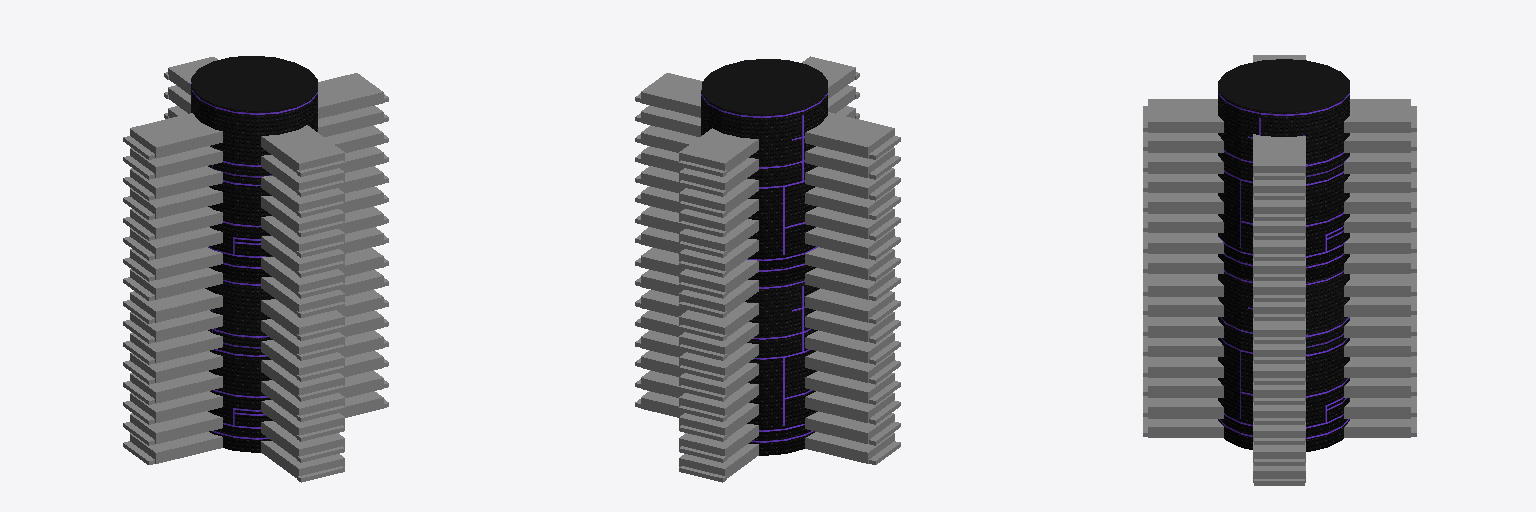
3 views of the same model, side by side, from view 1: azimuth 30°, elevation 25°; view 2: azimuth 150°, elevation 25°; view 3: azimuth 270°, elevation 25° (orthographic).
Visible parts, largest first — view 1: Cylinder001, Box050, Box054, Box067, Box046, Box069, Box036, Box060, Box012, Box024, Box072, Box083 (+21 smaller); view 2: Cylinder001, Box050, Box054, Box067, Box046, Box069, Box036, Box012, Box060, Box072, Box024, Box083 (+21 smaller); view 3: Cylinder001, Box054, Box043, Box007, Box079, Box085, Box031, Box019, Box090, Box014, Box064, Box038 (+21 smaller).
Boxes of the visible parts, x1,y1,x2,y2 form: Cylinder001: [191, 56, 317, 452]; Box050: [130, 73, 383, 158]; Box054: [168, 57, 344, 172]; Box067: [130, 106, 383, 177]; Box046: [130, 247, 383, 322]; Box069: [130, 125, 383, 198]; Box036: [130, 290, 383, 363]; Box060: [130, 206, 383, 279]; Box012: [130, 370, 383, 443]; Box024: [130, 330, 383, 403]; Box072: [130, 166, 383, 239]; Box083: [130, 227, 383, 299]; Cylinder001: [701, 59, 827, 455]; Box050: [641, 73, 894, 158]; Box054: [679, 56, 855, 172]; Box067: [641, 105, 894, 177]; Box046: [641, 247, 894, 322]; Box069: [641, 125, 894, 198]; Box036: [641, 290, 894, 362]; Box012: [641, 370, 894, 443]; Box060: [641, 206, 894, 279]; Box072: [641, 166, 894, 238]; Box024: [641, 330, 894, 403]; Box083: [641, 227, 894, 299]; Cylinder001: [1218, 59, 1349, 451]; Box054: [1148, 99, 1410, 132]; Box043: [1148, 274, 1410, 296]; Box007: [1148, 398, 1410, 418]; Box079: [1148, 153, 1410, 173]; Box085: [1148, 193, 1410, 213]; Box031: [1148, 317, 1410, 337]; Box019: [1148, 357, 1410, 377]; Box090: [1148, 233, 1410, 253]; Box014: [1148, 378, 1410, 397]; Box064: [1148, 133, 1410, 152]; Box038: [1148, 297, 1410, 316].
Bounding box in the file's own units: 91.16 × 124 × 89.88.
Materials: 3 (1 with a texture image).